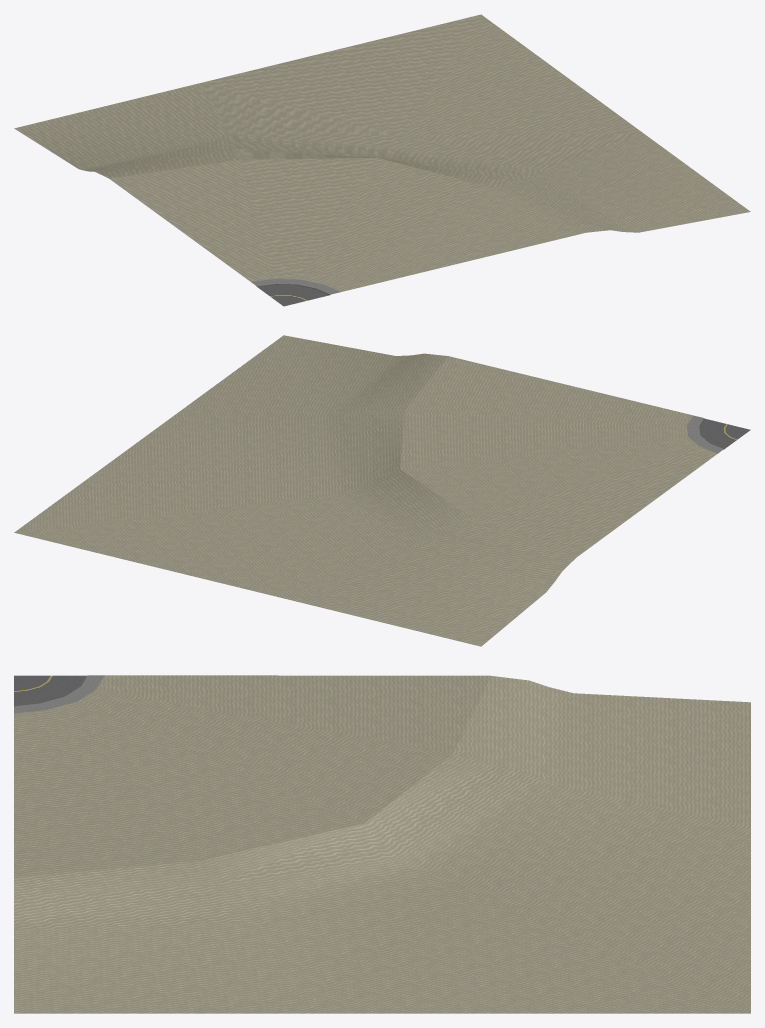
Rendered from ground_90_beach.FBX.
The picture shows the model from 3 angles, top to bottom: view 1: azimuth 30°, elevation 25°; view 2: azimuth 150°, elevation 25°; view 3: azimuth 270°, elevation 25°; orthographic projection. The views are drawn at different scales.
Visible parts, largest first — view 1: ground_90_beach_LOD0; view 2: ground_90_beach_LOD0; view 3: ground_90_beach_LOD0.
Part boxes in pixels (bbox=[...]): ground_90_beach_LOD0: bbox=[14, 14, 750, 306]; ground_90_beach_LOD0: bbox=[14, 335, 750, 646]; ground_90_beach_LOD0: bbox=[14, 675, 750, 1013].
Size of what is drawn, in the model's own units: 200 by 8.1 by 200.
